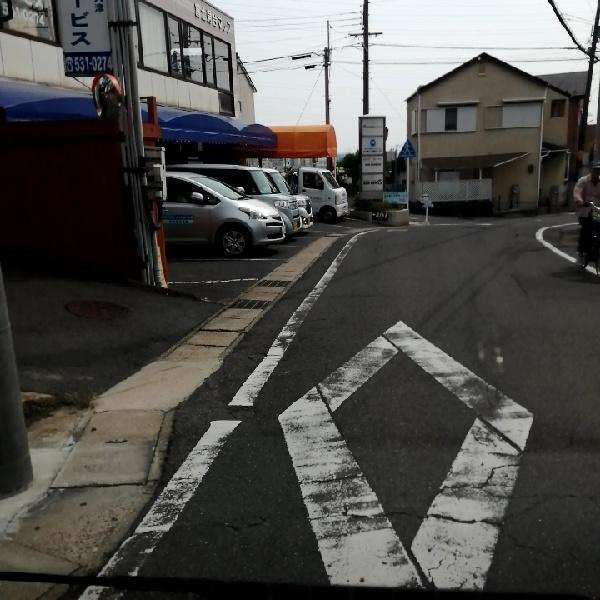D00: (505, 272, 535, 301)
D10: (347, 493, 599, 559), (183, 507, 310, 533), (318, 289, 378, 300)
D50: (62, 295, 133, 322), (226, 406, 260, 423), (244, 351, 267, 364)
